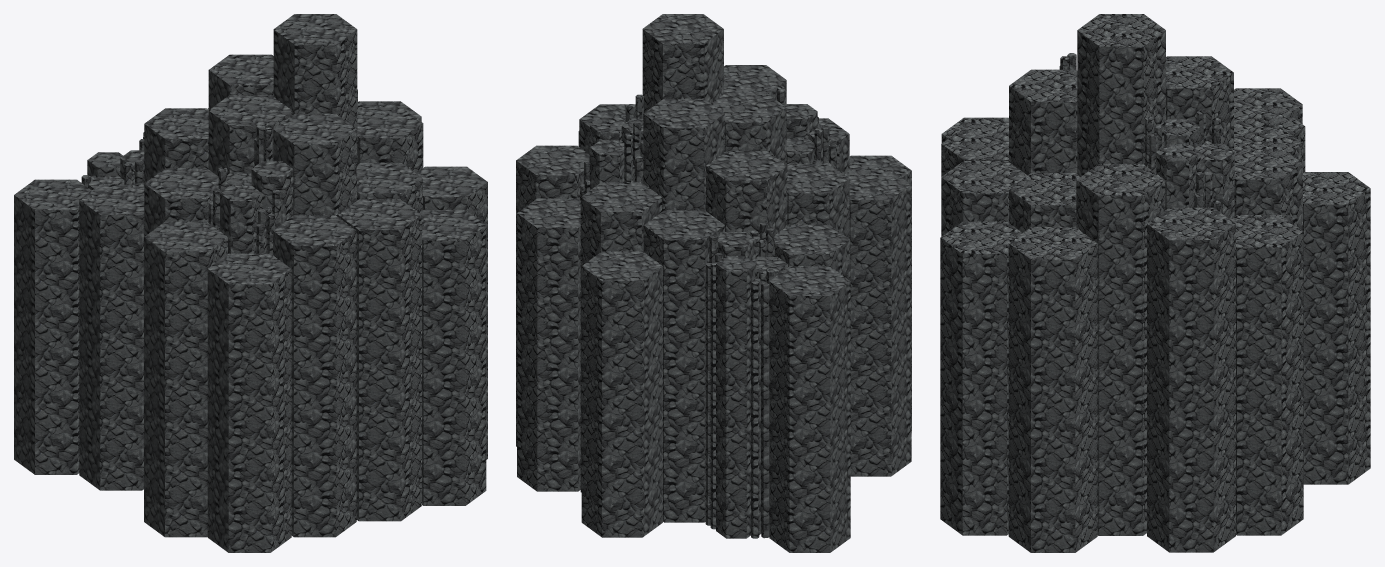
File: Environment.Rocks.BasaltRises.01.fbx
The picture shows the model from 3 angles, left to right: view 1: azimuth 30°, elevation 25°; view 2: azimuth 150°, elevation 25°; view 3: azimuth 270°, elevation 25°; orthographic projection. The views are drawn at different scales.
Visible parts, largest first — view 1: BasaltRises01; view 2: BasaltRises01; view 3: BasaltRises01.
Boxes of the visible parts, x1,y1,x2,y2 form: BasaltRises01: (14, 14, 487, 552); BasaltRises01: (516, 14, 911, 552); BasaltRises01: (940, 14, 1370, 552).
Bounding box in the file's own units: 589 × 679 × 581.
